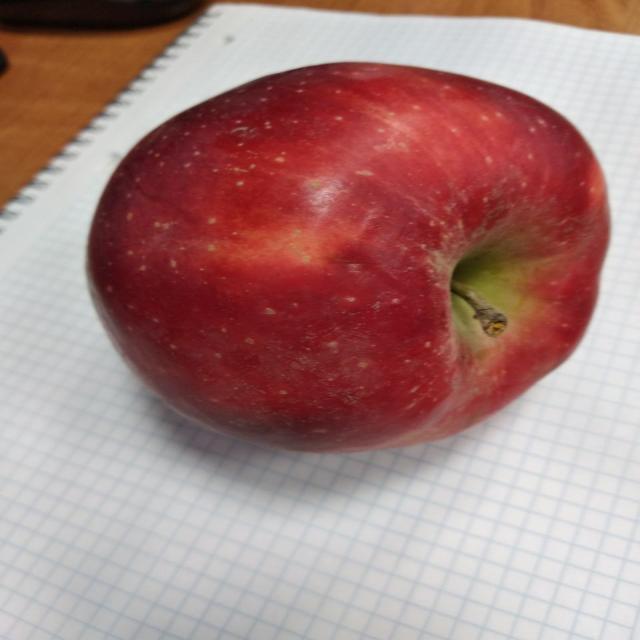Fresh Apple: (90, 64, 594, 456)
